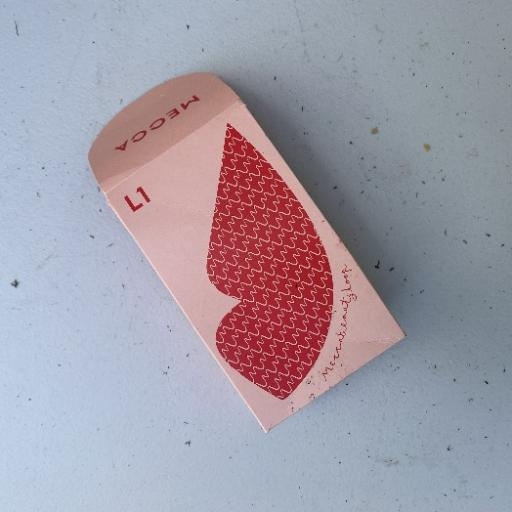Cardboard: (86, 70, 407, 434), (204, 121, 335, 401)
